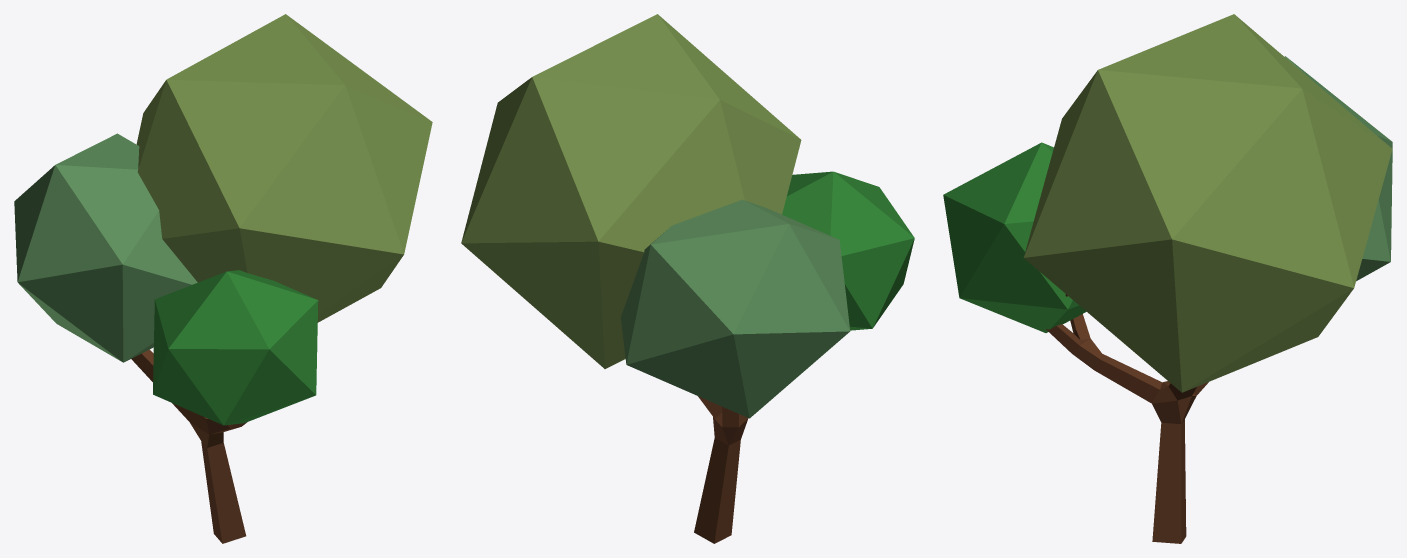
The model's file is TreeRound1.fbx.
The picture shows the model from 3 angles, left to right: view 1: azimuth 30°, elevation 25°; view 2: azimuth 150°, elevation 25°; view 3: azimuth 270°, elevation 25°; orthographic projection. The views are drawn at different scales.
Visible parts, largest first — view 1: Cube.029; view 2: Cube.029; view 3: Cube.029.
Boxes of the visible parts, x1,y1,x2,y2 form: Cube.029: (14, 14, 432, 543); Cube.029: (461, 14, 914, 543); Cube.029: (943, 14, 1392, 543).
Size of the model in its own units: 159 by 183 by 144.
